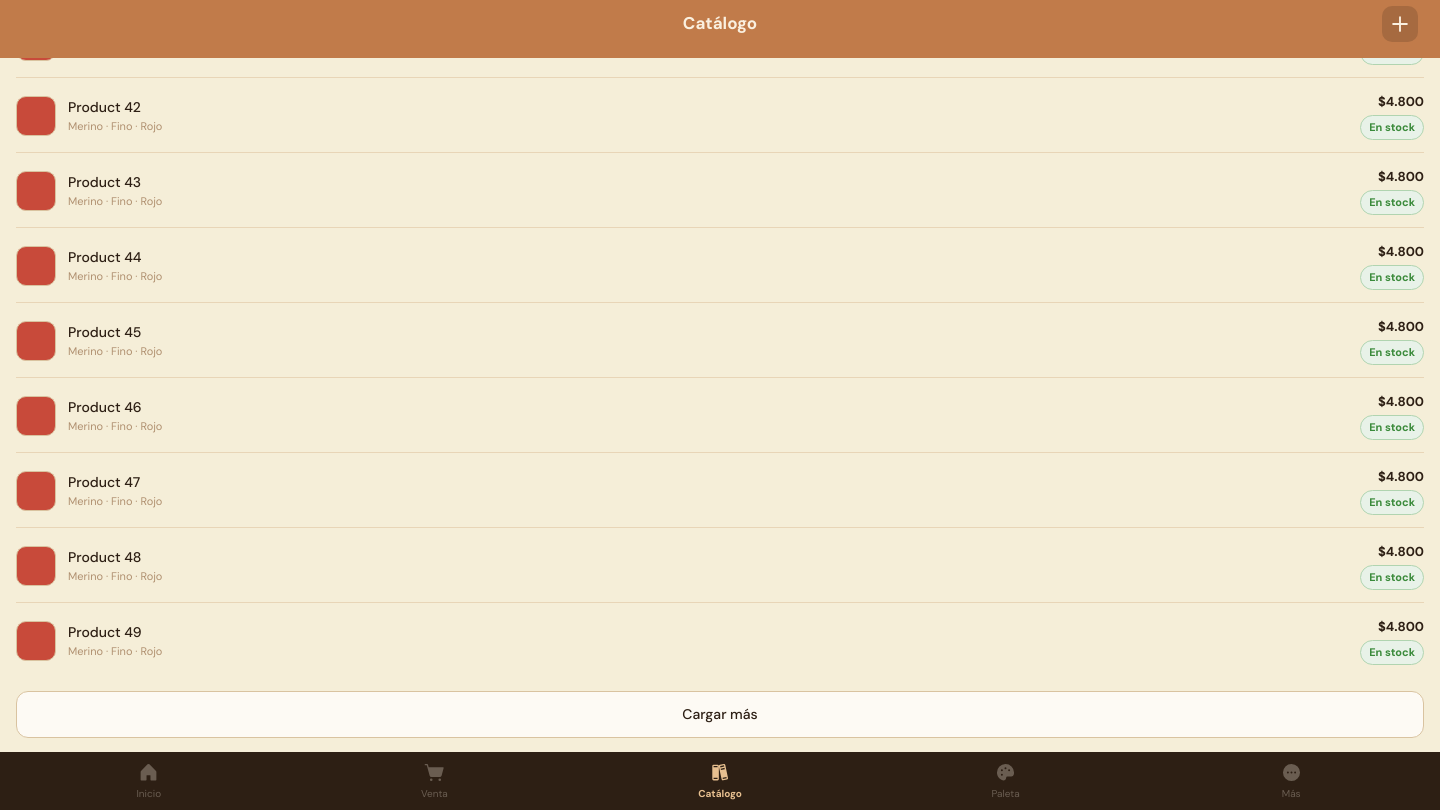
CatalogScreen › should_load_more_when_button_clicked
The image size is (1440, 810).
(page scrolled)
Step 1. Click the button "Cargar más" → x=720, y=714, box 16,690 -> 1424,738
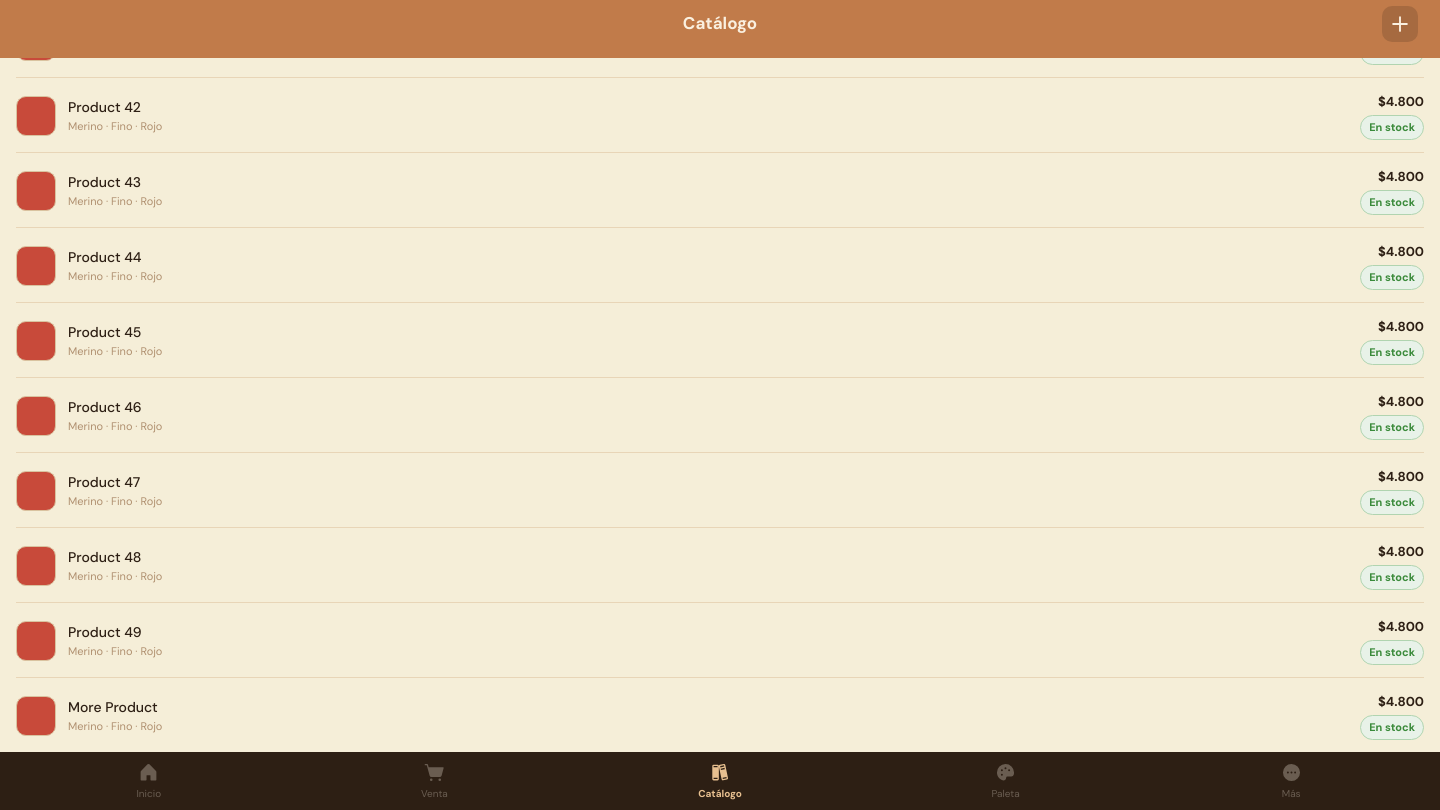
expect the text "More Product" is shown: met, box 68,698 -> 158,716
